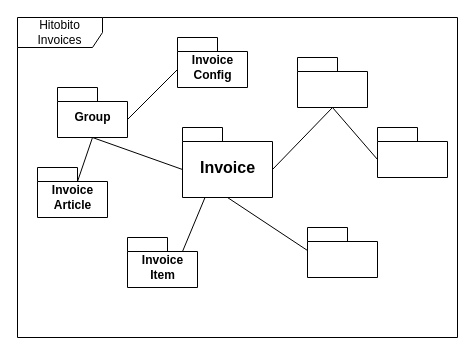
This 475x355 diagram has some shape labels left out. The shapes that lost their labels are listed below. From the top down, each one's centre as x and y in pixels, then its label:
At (332,82): "Invoice List".
At (412,152): "Message".
At (342,252): "Person (Recipient)".
